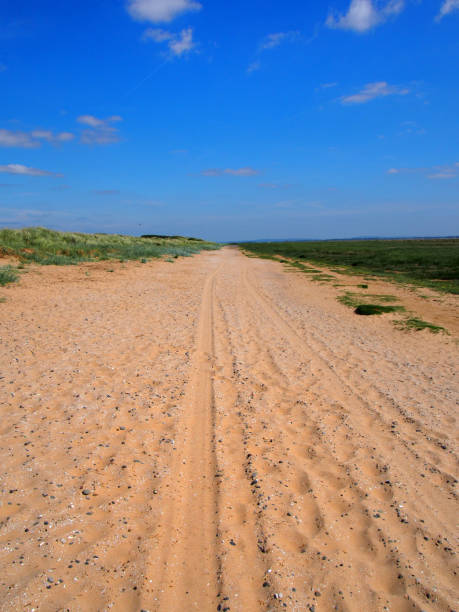vehicle_track: (243, 272, 431, 501), (145, 266, 220, 611)
